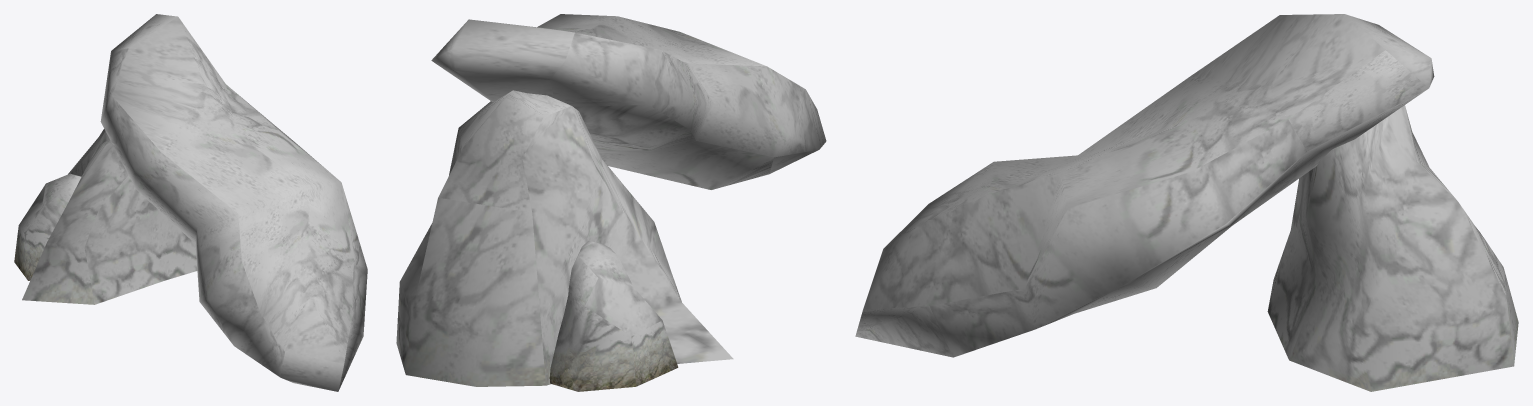
Rendered from general_obj_bigstonegate02.fbx.
The picture shows the model from 3 angles, left to right: view 1: azimuth 30°, elevation 25°; view 2: azimuth 150°, elevation 25°; view 3: azimuth 270°, elevation 25°; orthographic projection. The views are drawn at different scales.
Visible parts, largest first — view 1: Sphere01; view 2: Sphere01; view 3: Sphere01.
Part boxes in pixels (left/top/right/bottom): Sphere01: left=14, top=14, right=367, bottom=391; Sphere01: left=396, top=14, right=826, bottom=391; Sphere01: left=855, top=14, right=1518, bottom=391.
Size of the model in its own units: 30.34 by 26.72 by 50.68.
